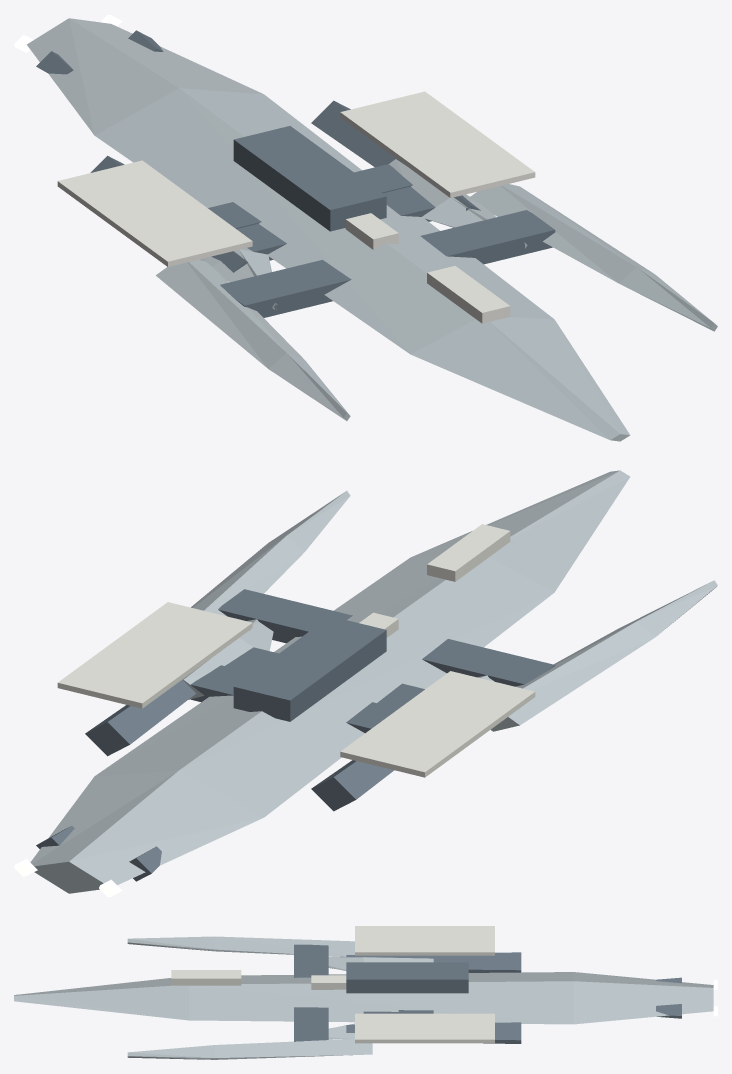
The picture shows the model from 3 angles, top to bottom: view 1: azimuth 30°, elevation 25°; view 2: azimuth 150°, elevation 25°; view 3: azimuth 270°, elevation 25°; orthographic projection. The views are drawn at different scales.
Bounding box in the file's own units: 6.36 × 1.09 × 15.78.
